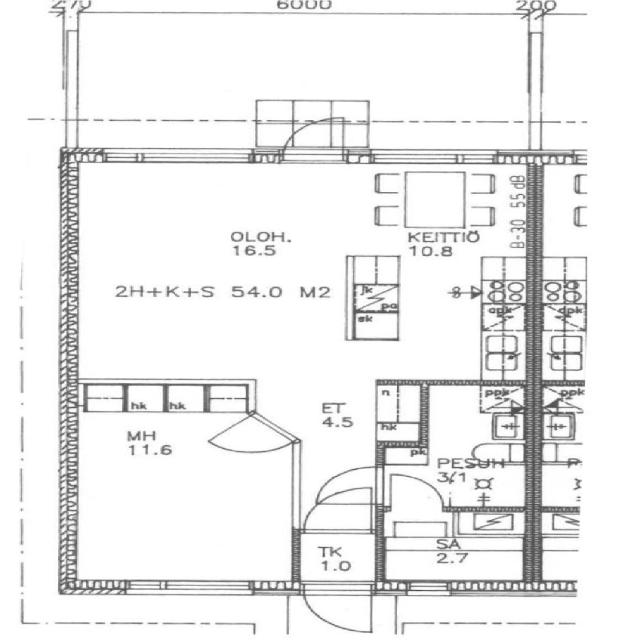door: (295, 580, 379, 637), (302, 478, 381, 538), (273, 112, 353, 164), (379, 470, 453, 518), (210, 417, 292, 458), (311, 464, 384, 509)
window: (104, 146, 264, 169), (364, 147, 512, 169), (132, 576, 260, 600), (400, 580, 460, 598), (99, 147, 146, 166)
zone: (63, 162, 396, 386), (66, 392, 303, 592), (352, 176, 534, 382), (379, 382, 537, 478), (380, 510, 530, 592)
